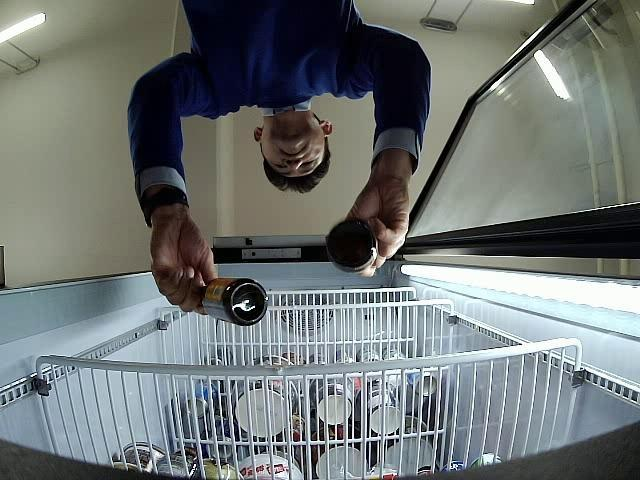17_vita500: (201, 277, 267, 326), (327, 219, 378, 272)
